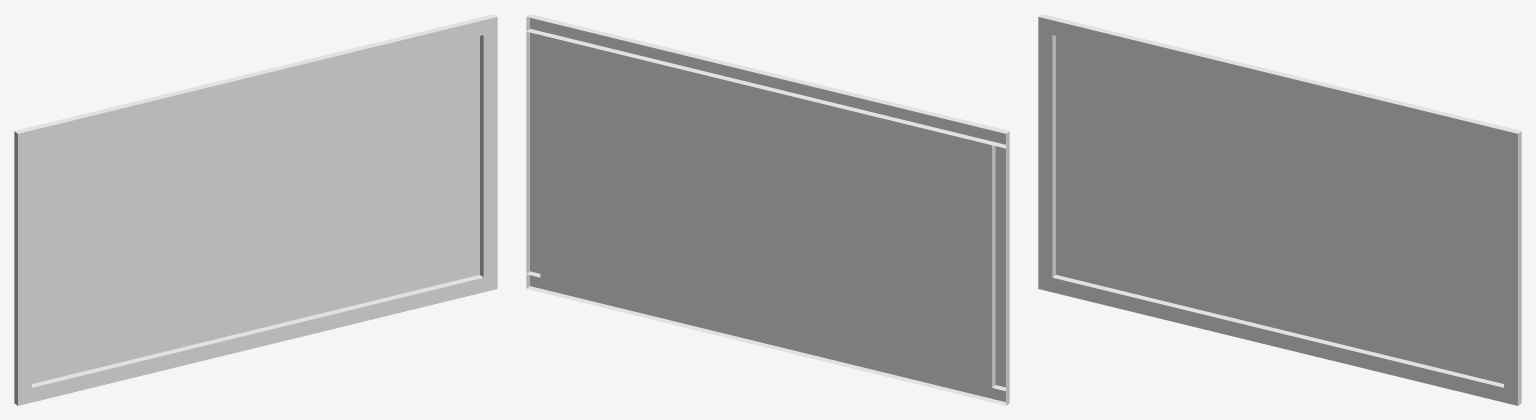
The model's file is Tool_Tool_Wall_01.glb.
3 renders of one model, left to right at view 1: azimuth 30°, elevation 25°; view 2: azimuth 150°, elevation 25°; view 3: azimuth 330°, elevation 25°, orthographic.
Visible parts, largest first — view 1: Tool_Tool Wall_01; view 2: Tool_Tool Wall_01; view 3: Tool_Tool Wall_01.
Part boxes in pixels (<box>): Tool_Tool Wall_01: <box>14,14,497,405</box>; Tool_Tool Wall_01: <box>526,14,1009,405</box>; Tool_Tool Wall_01: <box>1038,14,1521,405</box>.
Size of the model in its own units: 1.99 by 1.08 by 0.0277.
Materials: 1 (1 with a texture image).
